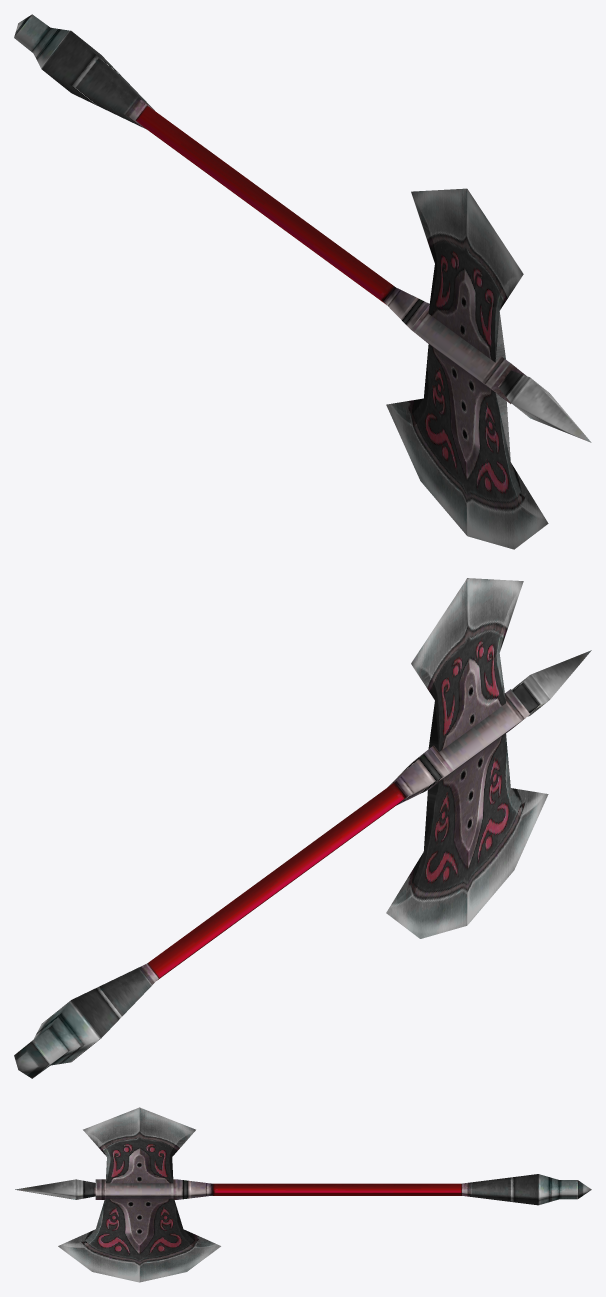
3 renders of one model, top to bottom at view 1: azimuth 30°, elevation 25°; view 2: azimuth 150°, elevation 25°; view 3: azimuth 270°, elevation 25°, orthographic. The views are drawn at different scales.
Visible parts, largest first — view 1: sm_0, sm_1; view 2: sm_0, sm_1; view 3: sm_0, sm_1.
Part boxes in pixels (x1,y1,x2,y2): sm_0: (14,14,591,479); sm_1: (386,188,548,549); sm_0: (14,626,591,1078); sm_1: (386,578,548,938); sm_0: (15,1132,591,1254); sm_1: (58,1107,220,1282).
Bounding box in the file's own units: 45.15 × 251 × 752.
